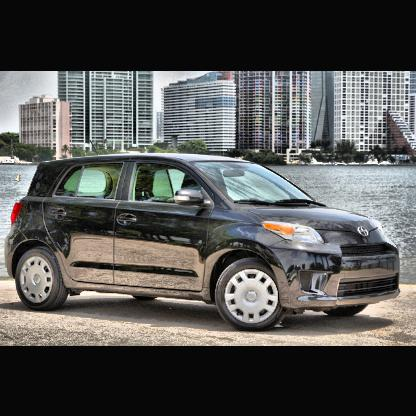Scion xD Hatchback 2012: (6, 139, 403, 334)
